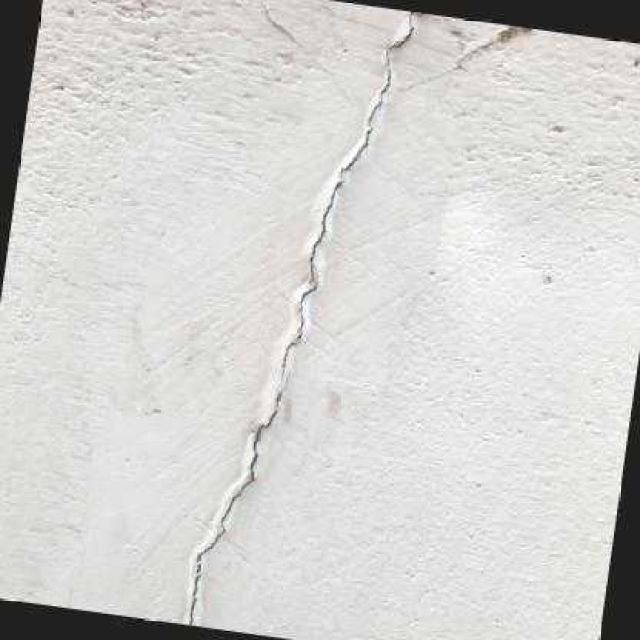D00: (307, 10, 428, 280), (187, 371, 290, 625), (277, 280, 319, 382)
